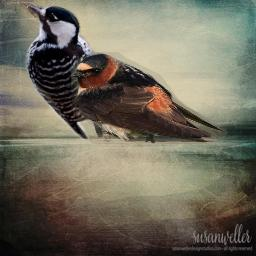Swallow: (71, 52, 227, 144)
Woodpecker: (20, 0, 153, 140)
